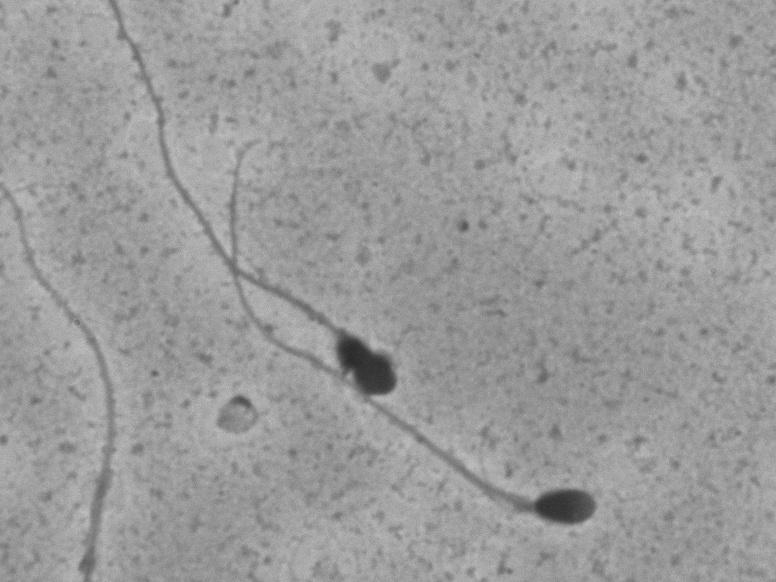Normal: (221, 110, 629, 542)
